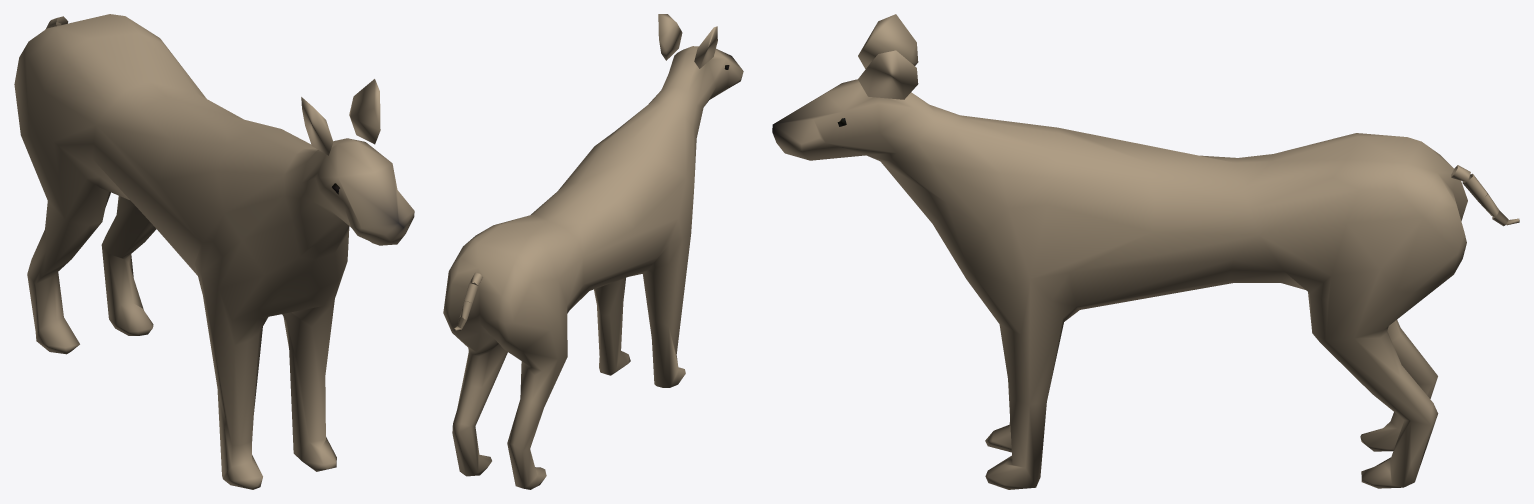
The model's file is luchs.glb.
3 views of the same model, side by side, from view 1: azimuth 30°, elevation 25°; view 2: azimuth 150°, elevation 25°; view 3: azimuth 270°, elevation 25° (orthographic). The views are drawn at different scales.
Parts seen in each view (by area): view 1: lack; view 2: lack; view 3: lack.
Boxes of the visible parts, x1=… form: lack: x1=14, y1=14, x2=414, y2=489; lack: x1=443, y1=14, x2=743, y2=489; lack: x1=772, y1=14, x2=1519, y2=489.
Size of the model in its own units: 0.2963 by 0.8687 by 1.35.
